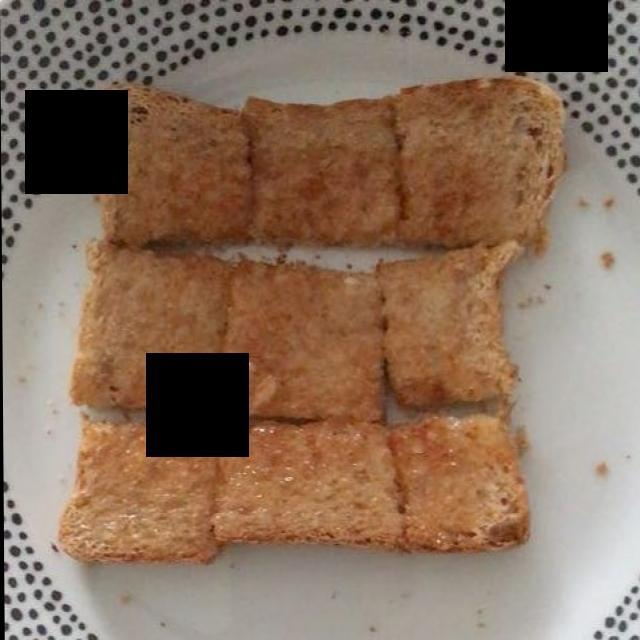bread: (64, 79, 558, 559)
